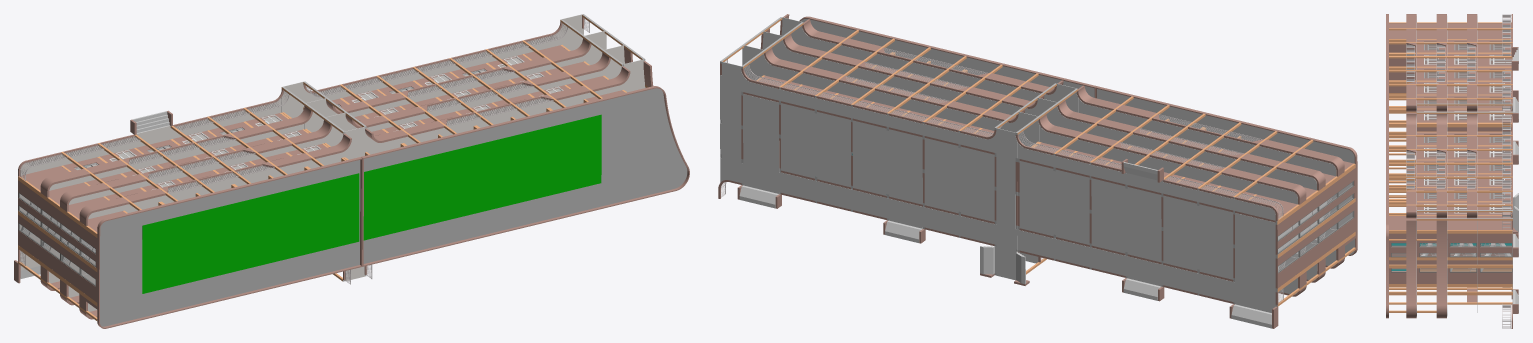
3 renders of one model, left to right at view 1: azimuth 30°, elevation 25°; view 2: azimuth 150°, elevation 25°; view 3: azimuth 270°, elevation 25°, orthographic. The views are drawn at different scales.
Parts seen in each view (by area): view 1: IfcSlab:325vSQYM14r9MoUVkmS3fL:0, IfcSlab:325vSQYM14r9MoUVkmS3cG:0, IfcSlab:2dVX2gAqD7XP7EKFx$wTx9:0, IfcSlab:2dVX2gAqD7XP7EKFx$wTzZ:0, IfcSlab:2dVX2gAqD7XP7EKFx$wTg3:0, IfcSlab:2dVX2gAqD7XP7EKFx$wI18:0, IfcSlab:325vSQYM14r9MoUVcmS3d0:0, IfcSlab:325vSQYM14r9MoUVcmS3c6:0, IfcSlab:2dVX2gAqD7XP7EKFx$wI0B:0, IfcSlab:2dVX2gAqD7XP7EKFx$wIQG:0, IfcSlab:2dVX2gAqD7XP7EKFx$wIGP:0, IfcSlab:2dVX2gAqD7XP7EKFx$wTex:0 (+8 smaller); view 2: IfcSlab:2dVX2gAqD7XP7EKFx$wI18:1, IfcSlab:2dVX2gAqD7XP7EKFx$wI6u:1, IfcSlab:2dVX2gAqD7XP7EKFx$wI4u:1, IfcSlab:2dVX2gAqD7XP7EKFx$wI4L:1, IfcSlab:2dVX2gAqD7XP7EKFx$wI7U:1, IfcSlab:2dVX2gAqD7XP7EKFx$wI4t:1, IfcSlab:2dVX2gAqD7XP7EKFx$wI7X:1, IfcSlab:2dVX2gAqD7XP7EKFx$wI7q:1, IfcSlab:2dVX2gAqD7XP7EKFx$wIQG:1, IfcSlab:2dVX2gAqD7XP7EKFx$wTg3:1, IfcSlab:2dVX2gAqD7XP7EKFx$wIGP:1, IfcSlab:2dVX2gAqD7XP7EKFx$wI0B:1 (+15 smaller); view 3: IfcWall:2dVX2gAqD7XP7EKFx$wTgE:0, IfcWall:2dVX2gAqD7XP7EKFx$wThy:0, IfcWall:2dVX2gAqD7XP7EKFx$wI48:0, IfcWall:2dVX2gAqD7XP7EKFx$wI5t:0, IfcWall:2dVX2gAqD7XP7EKFx$wITe:0, IfcWall:2dVX2gAqD7XP7EKFx$wITN:0, IfcWall:2dVX2gAqD7XP7EKFx$wI5o:0, IfcWall:2dVX2gAqD7XP7EKFx$wI5b:0, IfcWall:2dVX2gAqD7XP7EKFx$wTe7:0, IfcWall:2dVX2gAqD7XP7EKFx$wITI:0, IfcWall:2dVX2gAqD7XP7EKFx$wISk:0, IfcWall:2dVX2gAqD7XP7EKFx$wTEl:0 (+109 smaller).
Boxes of the visible parts, x1,y1,x2,y2 form: IfcSlab:325vSQYM14r9MoUVkmS3fL:0: (363, 114, 601, 240); IfcSlab:325vSQYM14r9MoUVkmS3cG:0: (142, 173, 359, 293); IfcSlab:2dVX2gAqD7XP7EKFx$wTx9:0: (363, 88, 687, 263); IfcSlab:2dVX2gAqD7XP7EKFx$wTzZ:0: (100, 160, 360, 326); IfcSlab:2dVX2gAqD7XP7EKFx$wTg3:0: (343, 59, 645, 281); IfcSlab:2dVX2gAqD7XP7EKFx$wI18:0: (282, 14, 583, 118); IfcSlab:325vSQYM14r9MoUVcmS3d0:0: (100, 224, 142, 308); IfcSlab:325vSQYM14r9MoUVcmS3c6:0: (601, 103, 641, 184); IfcSlab:2dVX2gAqD7XP7EKFx$wI0B:0: (20, 98, 281, 175); IfcSlab:2dVX2gAqD7XP7EKFx$wIQG:0: (304, 31, 606, 132); IfcSlab:2dVX2gAqD7XP7EKFx$wIGP:0: (324, 45, 624, 146); IfcSlab:2dVX2gAqD7XP7EKFx$wTex:0: (88, 152, 343, 311); IfcSlab:2dVX2gAqD7XP7EKFx$wI18:1: (720, 61, 1017, 280); IfcSlab:2dVX2gAqD7XP7EKFx$wI6u:1: (1017, 213, 1275, 312); IfcSlab:2dVX2gAqD7XP7EKFx$wI4u:1: (1091, 178, 1161, 262); IfcSlab:2dVX2gAqD7XP7EKFx$wI4L:1: (1163, 195, 1233, 279); IfcSlab:2dVX2gAqD7XP7EKFx$wI7U:1: (924, 138, 994, 221); IfcSlab:2dVX2gAqD7XP7EKFx$wI4t:1: (1019, 161, 1089, 244); IfcSlab:2dVX2gAqD7XP7EKFx$wI7X:1: (852, 120, 922, 204); IfcSlab:2dVX2gAqD7XP7EKFx$wI7q:1: (781, 103, 850, 187); IfcSlab:2dVX2gAqD7XP7EKFx$wIQG:1: (742, 45, 1039, 263); IfcSlab:2dVX2gAqD7XP7EKFx$wTg3:1: (781, 17, 1078, 112); IfcSlab:2dVX2gAqD7XP7EKFx$wIGP:1: (762, 31, 1058, 126); IfcSlab:2dVX2gAqD7XP7EKFx$wI0B:1: (1017, 142, 1275, 220); IfcWall:2dVX2gAqD7XP7EKFx$wTgE:0: (1406, 220, 1416, 305); IfcWall:2dVX2gAqD7XP7EKFx$wThy:0: (1436, 220, 1446, 305); IfcWall:2dVX2gAqD7XP7EKFx$wI48:0: (1477, 260, 1512, 283); IfcWall:2dVX2gAqD7XP7EKFx$wI5t:0: (1477, 233, 1512, 257); IfcWall:2dVX2gAqD7XP7EKFx$wITe:0: (1447, 260, 1477, 283); IfcWall:2dVX2gAqD7XP7EKFx$wITN:0: (1447, 233, 1477, 257); IfcWall:2dVX2gAqD7XP7EKFx$wI5o:0: (1477, 216, 1512, 229); IfcWall:2dVX2gAqD7XP7EKFx$wI5b:0: (1477, 23, 1511, 38); IfcWall:2dVX2gAqD7XP7EKFx$wTe7:0: (1389, 44, 1415, 66); IfcWall:2dVX2gAqD7XP7EKFx$wITI:0: (1447, 216, 1477, 229); IfcWall:2dVX2gAqD7XP7EKFx$wISk:0: (1417, 260, 1436, 283); IfcWall:2dVX2gAqD7XP7EKFx$wTEl:0: (1386, 113, 1388, 224).
Bounding box in the file's own units: 63.23 × 15.34 × 15.77.
